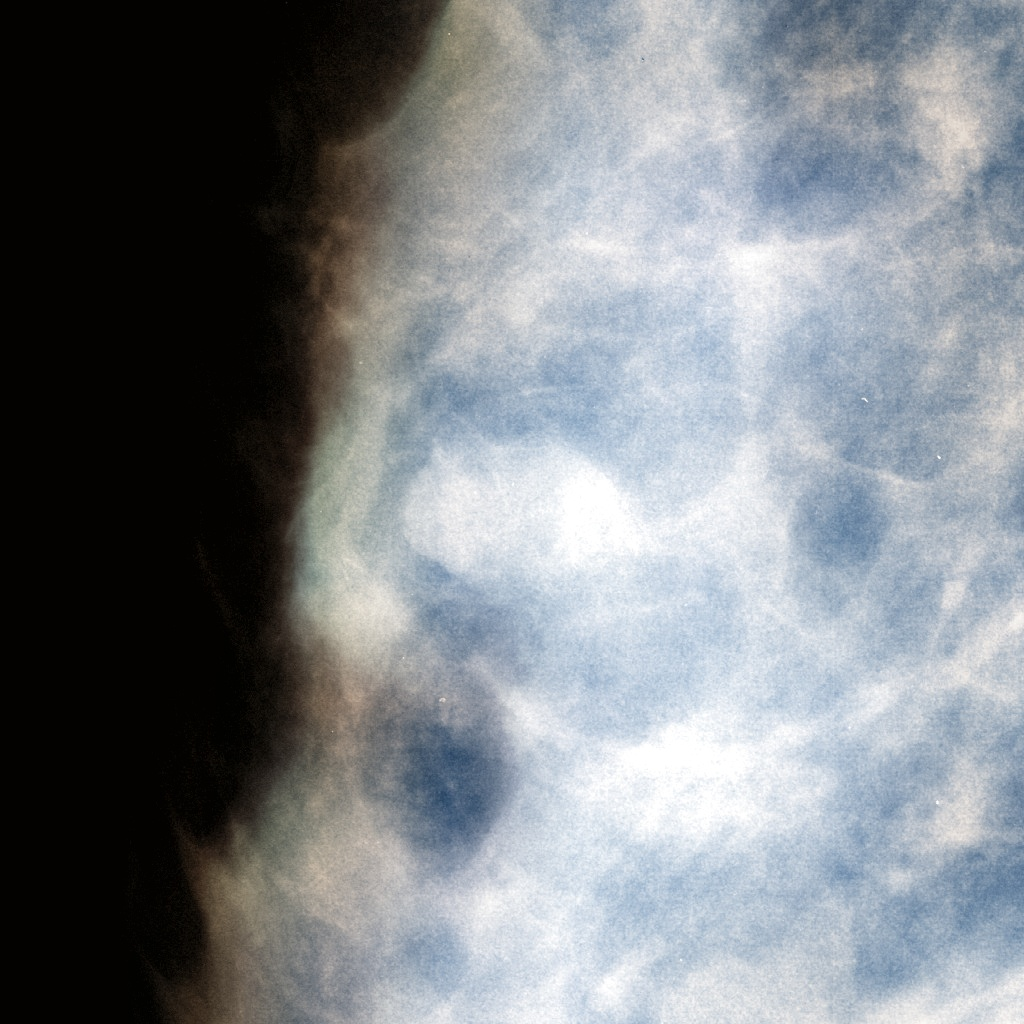tumor: (397, 418, 627, 606)
